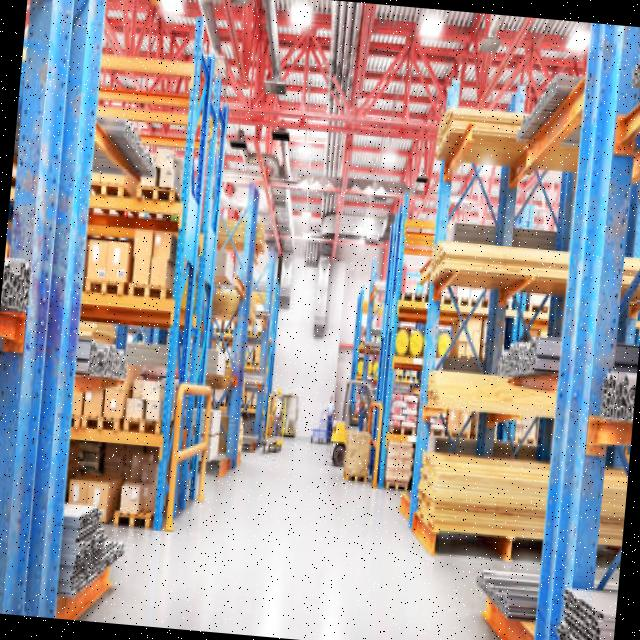Wooden-Pallets: (79, 407, 123, 438), (111, 502, 152, 534), (81, 274, 126, 300), (120, 414, 162, 441), (86, 173, 126, 200), (131, 182, 175, 205), (127, 279, 171, 301)
